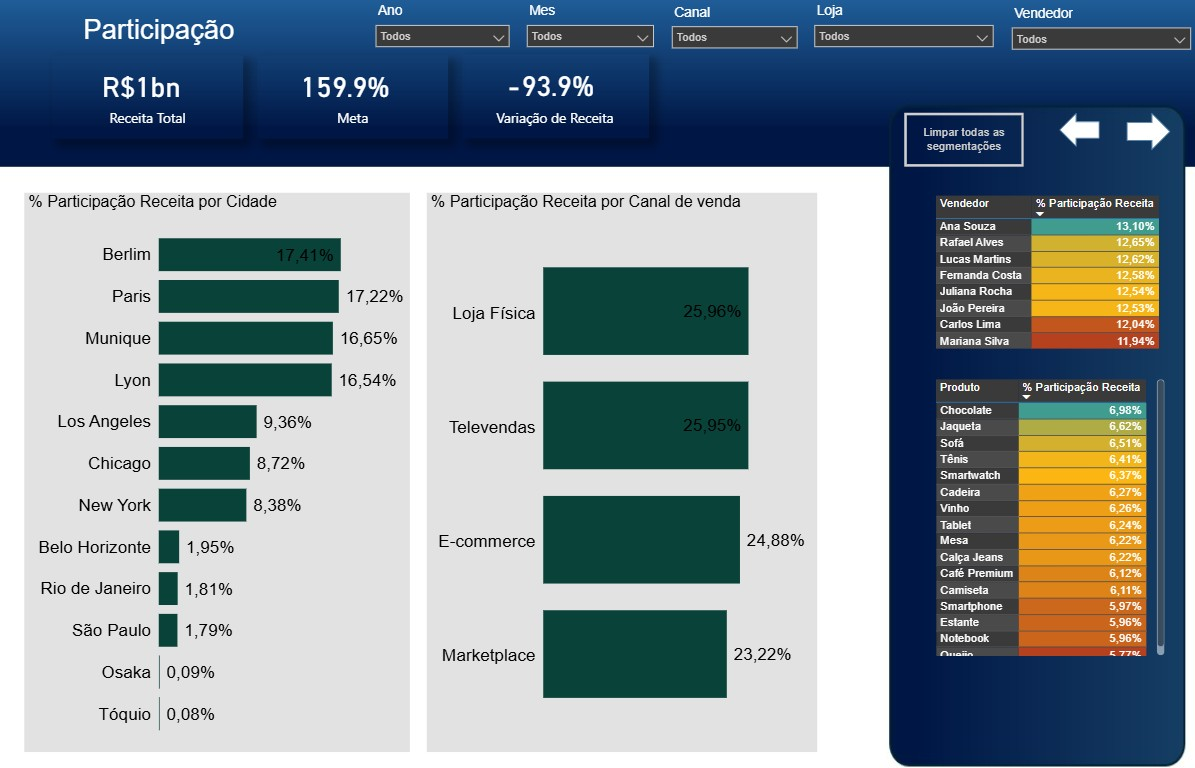

What the dashboard file says about the page in this screenshot:
{"tool":"powerbi","page":{"name":"Participação","canvas":[1400,900],"ordinal":3},"visuals":[{"type":"clusteredBarChart","fields":{"Category":["d_canal.canal_de_venda"],"Y":["Medidas.% Participação Receita"]},"box":[500,225.5,455.5,651.8],"z":0},{"type":"clusteredBarChart","title":"% Participação Receita por Cidade","fields":{"Y":["Medidas.% Participação Receita"],"Category":["d_localizacao.cidade"]},"box":[30.7,225.5,449.4,651.8],"z":1000},{"type":"tableEx","fields":{"Values":["d_vendedor.nome_vendedor","Medidas.% Participação Receita"]},"box":[1087.7,224.9,277.5,196.2],"z":2000},{"type":"tableEx","fields":{"Values":["d_produto.nome_produto","Medidas.% Participação Receita"]},"box":[1087.8,438.6,278.1,331.1],"z":3000},{"type":"advanceCardE03760C5AB684758B56AA29F9E6C257B","fields":{"mainMeasure":["Medidas.Receita Total"]},"box":[63.1,65.9,223.6,97.5],"z":4000},{"type":"advanceCardE03760C5AB684758B56AA29F9E6C257B","fields":{"mainMeasure":["Medidas.% Crescimento YoY (Correto)"]},"box":[541.2,64.1,218.1,98.2],"z":5000},{"type":"advanceCardE03760C5AB684758B56AA29F9E6C257B","fields":{"mainMeasure":["Medidas.% Atingimento Meta"]},"box":[301,65.9,223.6,97.5],"z":6000},{"type":"slicer","fields":{"Values":["d_tempo.ano"]},"box":[430.3,0.4,176.6,89],"z":7000},{"type":"slicer","fields":{"Values":["d_Calendario.Mes"]},"box":[606.9,0.4,168.1,90.4],"z":8000},{"type":"slicer","fields":{"Values":["d_canal.canal_de_venda"]},"box":[775,1.9,166.7,89],"z":9000},{"type":"slicer","fields":{"Values":["d_loja.nome_loja"]},"box":[941.7,0.4,228.9,89],"z":10000},{"type":"slicer","fields":{"Values":["d_vendedor.nome_vendedor"]},"box":[1171.2,3.3,228.9,87.6],"z":11000},{"type":"textbox","box":[95.1,13.8,285.3,75.2],"z":12000},{"type":"shape","box":[1236.8,132.1,47,40],"z":13000},{"type":"shape","box":[1316,132.1,50.9,43.8],"z":14000},{"type":"actionButton","box":[1056.8,131.9,139.6,62.9],"z":15000}]}

Visuals, with their boxes in screenshot pixels (x1, y1, x2, y2), scaled from the page's 1400x900 canvas onto the 1195x768 screenshot:
clusteredBarChart - d_canal.canal_de_venda x Medidas.% Participação Receita: [left=427, top=192, right=816, bottom=749]
"% Participação Receita por Cidade" clusteredBarChart: [left=26, top=192, right=410, bottom=749]
tableEx - d_vendedor.nome_vendedor x Medidas.% Participação Receita: [left=928, top=192, right=1165, bottom=359]
tableEx - d_produto.nome_produto x Medidas.% Participação Receita: [left=929, top=374, right=1166, bottom=657]
advanceCardE03760C5AB684758B56AA29F9E6C257B - Medidas.Receita Total: [left=54, top=56, right=245, bottom=139]
advanceCardE03760C5AB684758B56AA29F9E6C257B - Medidas.% Crescimento YoY (Correto): [left=462, top=55, right=648, bottom=138]
advanceCardE03760C5AB684758B56AA29F9E6C257B - Medidas.% Atingimento Meta: [left=257, top=56, right=448, bottom=139]
slicer - d_tempo.ano: [left=367, top=0, right=518, bottom=76]
slicer - d_Calendario.Mes: [left=518, top=0, right=662, bottom=77]
slicer - d_canal.canal_de_venda: [left=662, top=2, right=804, bottom=78]
slicer - d_loja.nome_loja: [left=804, top=0, right=999, bottom=76]
slicer - d_vendedor.nome_vendedor: [left=1000, top=3, right=1194, bottom=78]
textbox: [left=81, top=12, right=325, bottom=76]
shape: [left=1056, top=113, right=1096, bottom=147]
shape: [left=1123, top=113, right=1167, bottom=150]
actionButton: [left=902, top=113, right=1021, bottom=166]
